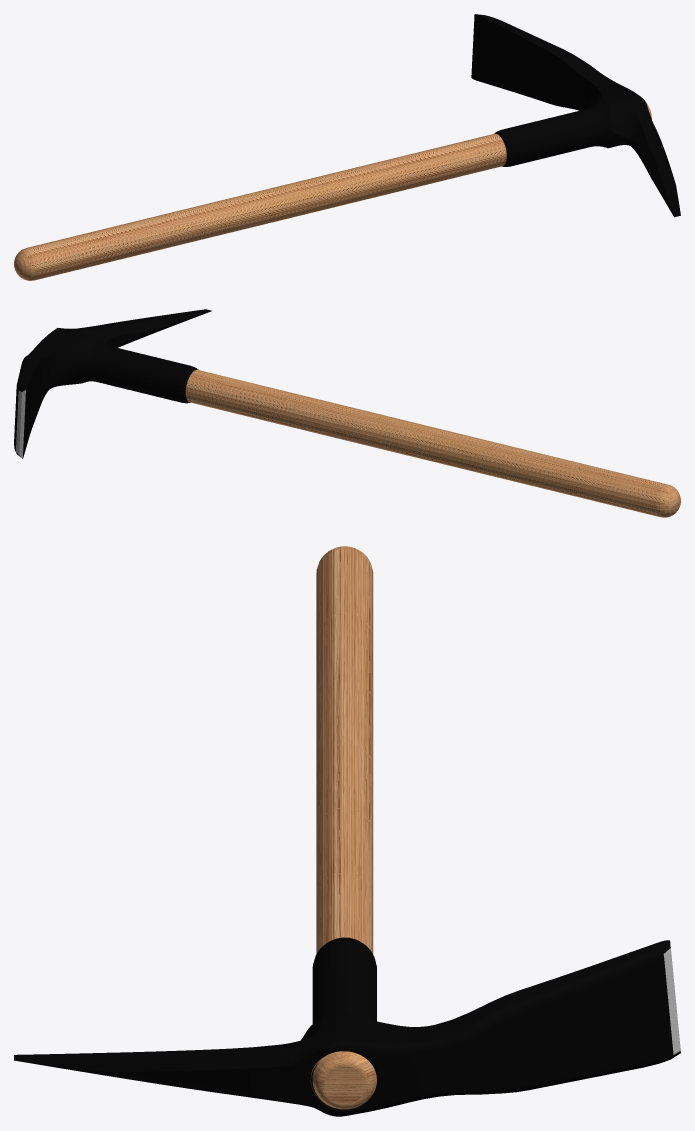
File: pick.glb
3 renders of one model, top to bottom at view 1: azimuth 30°, elevation 25°; view 2: azimuth 150°, elevation 25°; view 3: azimuth 270°, elevation 25°, orthographic. The views are drawn at different scales.
Bounding box in the file's own units: 0.067 × 0.00723 × 0.0362.
Materials: 2 (1 with a texture image).
